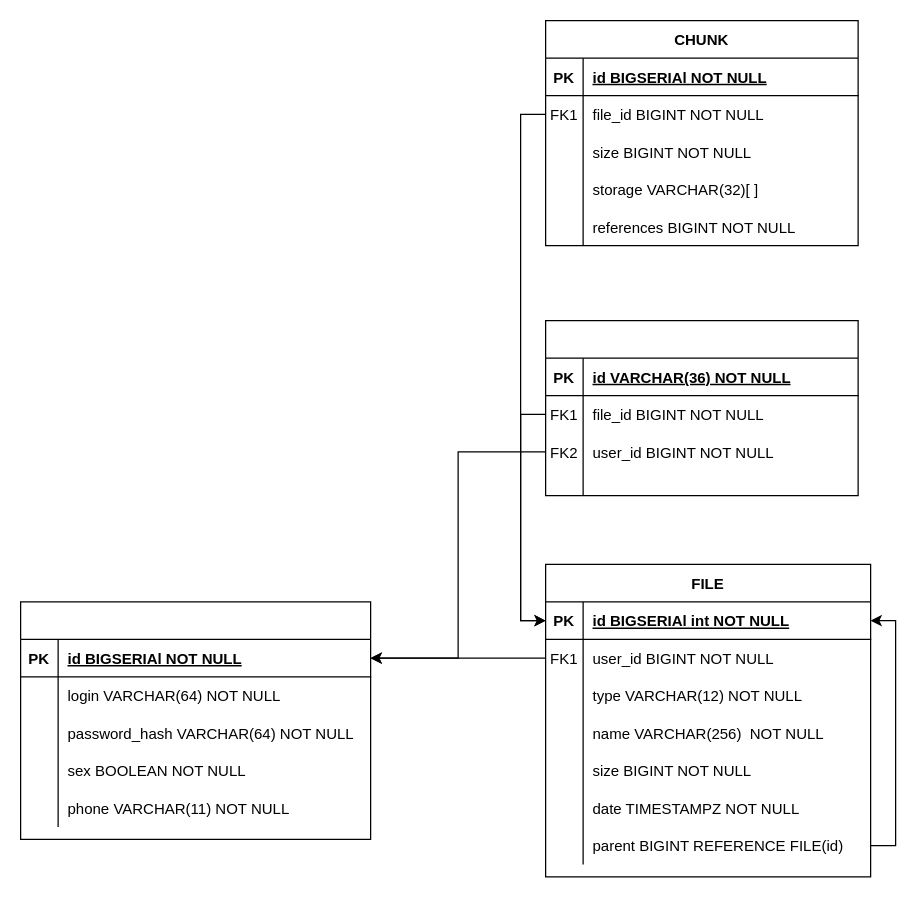
The diagram is 916 pixels wide and 898 high, and some of its shapes have lost their labels. The shapes that lost their labels are listed below. From the top down, each one's box as (x1, y1, x2, y2) in pixels, then its label:
(544, 319, 858, 496): SHARE
(19, 601, 371, 839): USER
